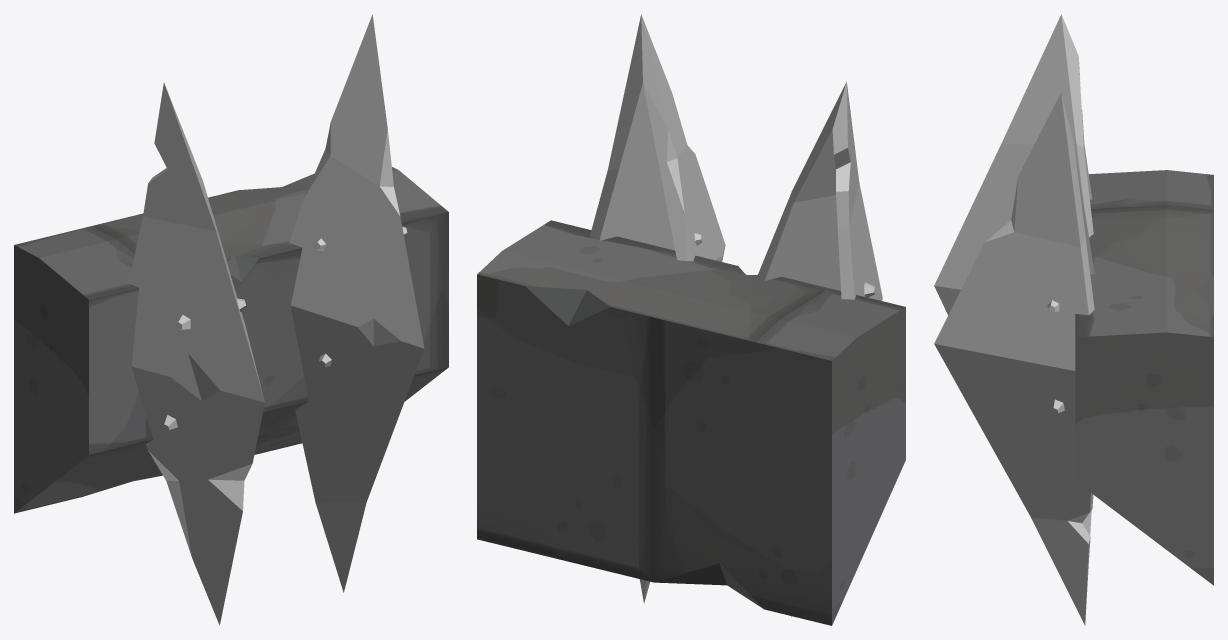
The model's file is SM_Bld_Battlements_Half_03.fbx.
3 renders of one model, left to right at view 1: azimuth 30°, elevation 25°; view 2: azimuth 150°, elevation 25°; view 3: azimuth 270°, elevation 25°, orthographic. The views are drawn at different scales.
Parts seen in each view (by area): view 1: SM_Bld_Battlements_Half_03; view 2: SM_Bld_Battlements_Half_03; view 3: SM_Bld_Battlements_Half_03.
Part boxes in pixels (x1,y1,x2,y2): SM_Bld_Battlements_Half_03: (14,14,448,625); SM_Bld_Battlements_Half_03: (477,14,905,625); SM_Bld_Battlements_Half_03: (934,14,1213,625).
Bounding box in the file's own units: 250 × 388 × 182.
